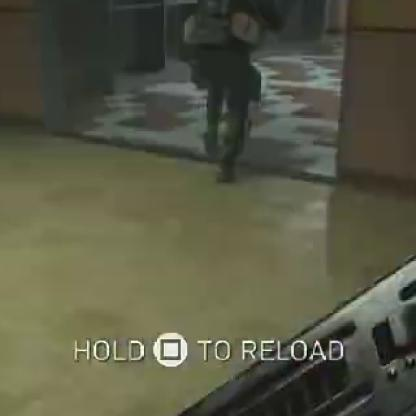enemy: (178, 1, 282, 185)
